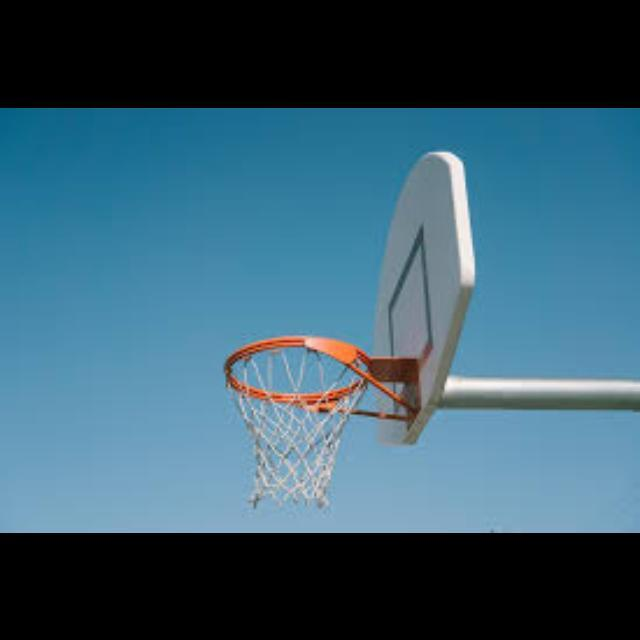rim: (224, 338, 368, 498)
